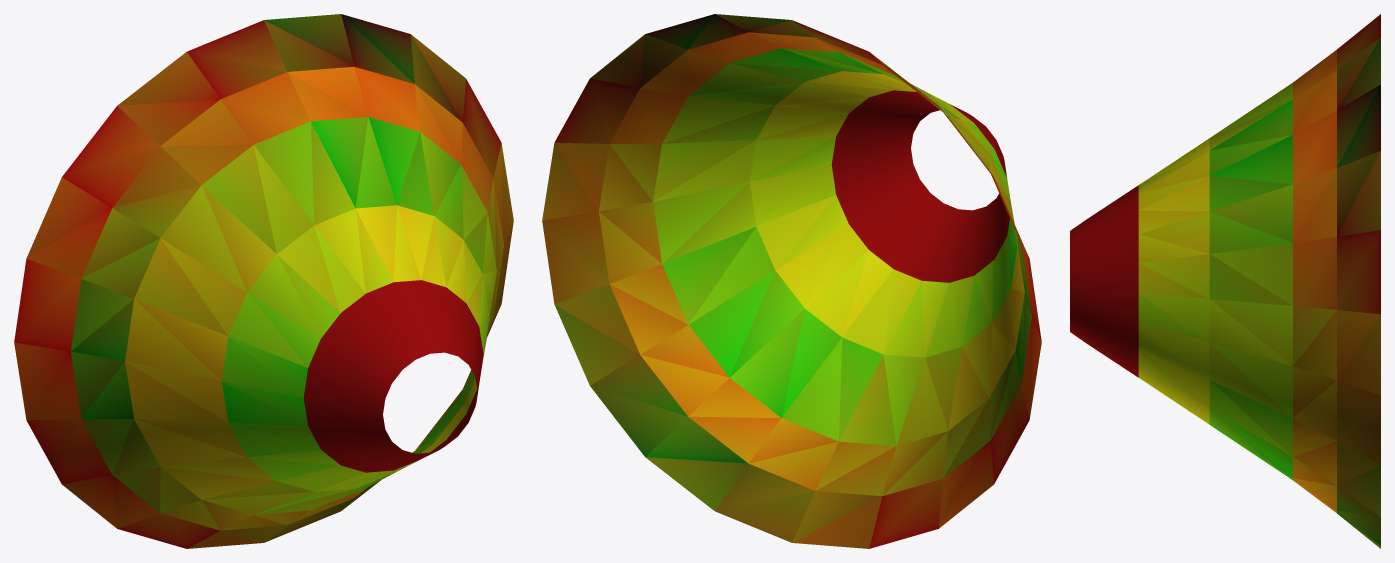
The model's file is SM_WEP_Eff_D32NJ3_01.glb.
3 renders of one model, left to right at view 1: azimuth 30°, elevation 25°; view 2: azimuth 150°, elevation 25°; view 3: azimuth 270°, elevation 25°, orthographic. The views are drawn at different scales.
Parts seen in each view (by area): view 1: SM_WEP_Eff_D32NJ3_01; view 2: SM_WEP_Eff_D32NJ3_01; view 3: SM_WEP_Eff_D32NJ3_01.
Boxes of the visible parts, x1,y1,x2,y2 form: SM_WEP_Eff_D32NJ3_01: (14,14,513,548); SM_WEP_Eff_D32NJ3_01: (542,14,1041,548); SM_WEP_Eff_D32NJ3_01: (1070,14,1380,548).
Size of the model in its own units: 1.63 by 1.63 by 0.9414.
